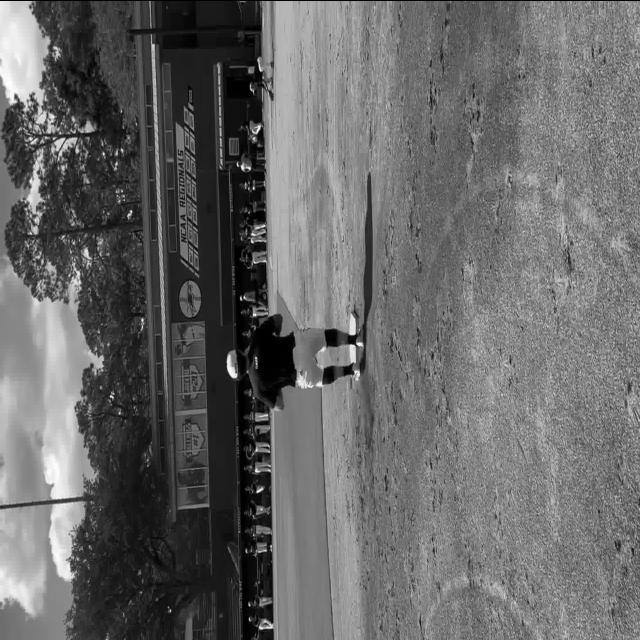base: (349, 309, 359, 333), (349, 344, 358, 362), (270, 253, 272, 269)
shoe: (352, 360, 365, 380), (356, 324, 365, 347)
